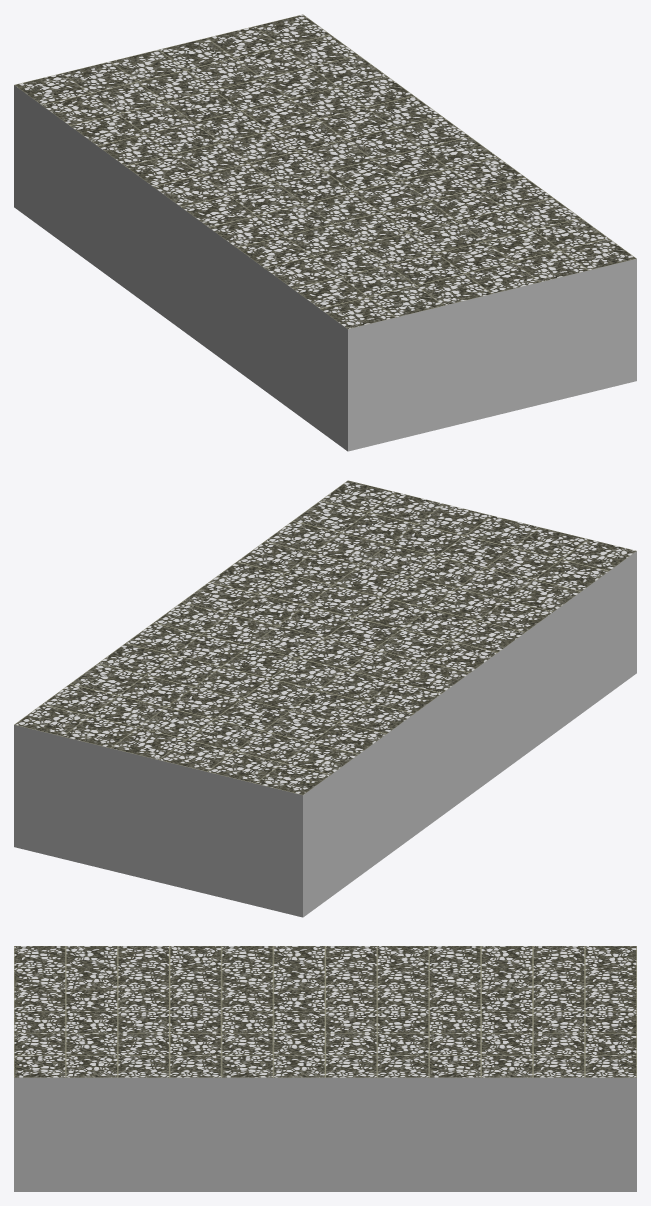
File: Floor_S.fbx
3 renders of one model, top to bottom at view 1: azimuth 30°, elevation 25°; view 2: azimuth 150°, elevation 25°; view 3: azimuth 270°, elevation 25°, orthographic. The views are drawn at different scales.
Parts seen in each view (by area): view 1: Floor_S; view 2: Floor_S; view 3: Floor_S.
Part boxes in pixels (x1,y1,x2,y2): Floor_S: (14,14,636,451); Floor_S: (14,480,636,917); Floor_S: (14,946,636,1191).
Size of the model in its own units: 12 by 4.85 by 24.
